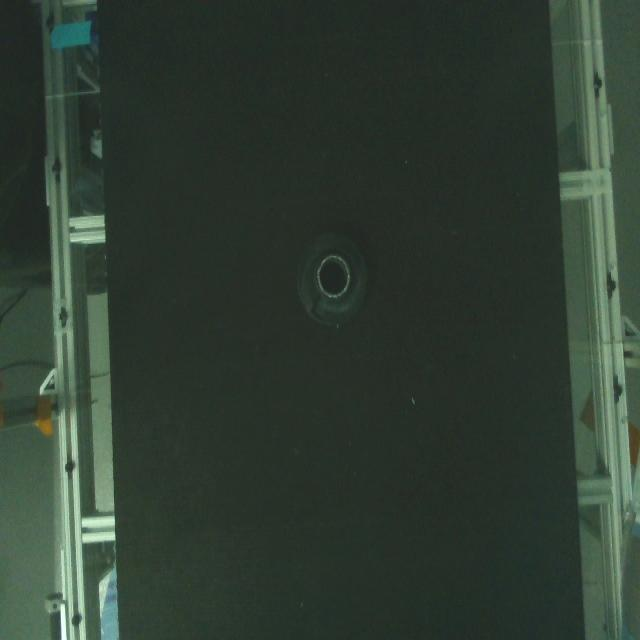non-paper: (288, 222, 381, 340)
